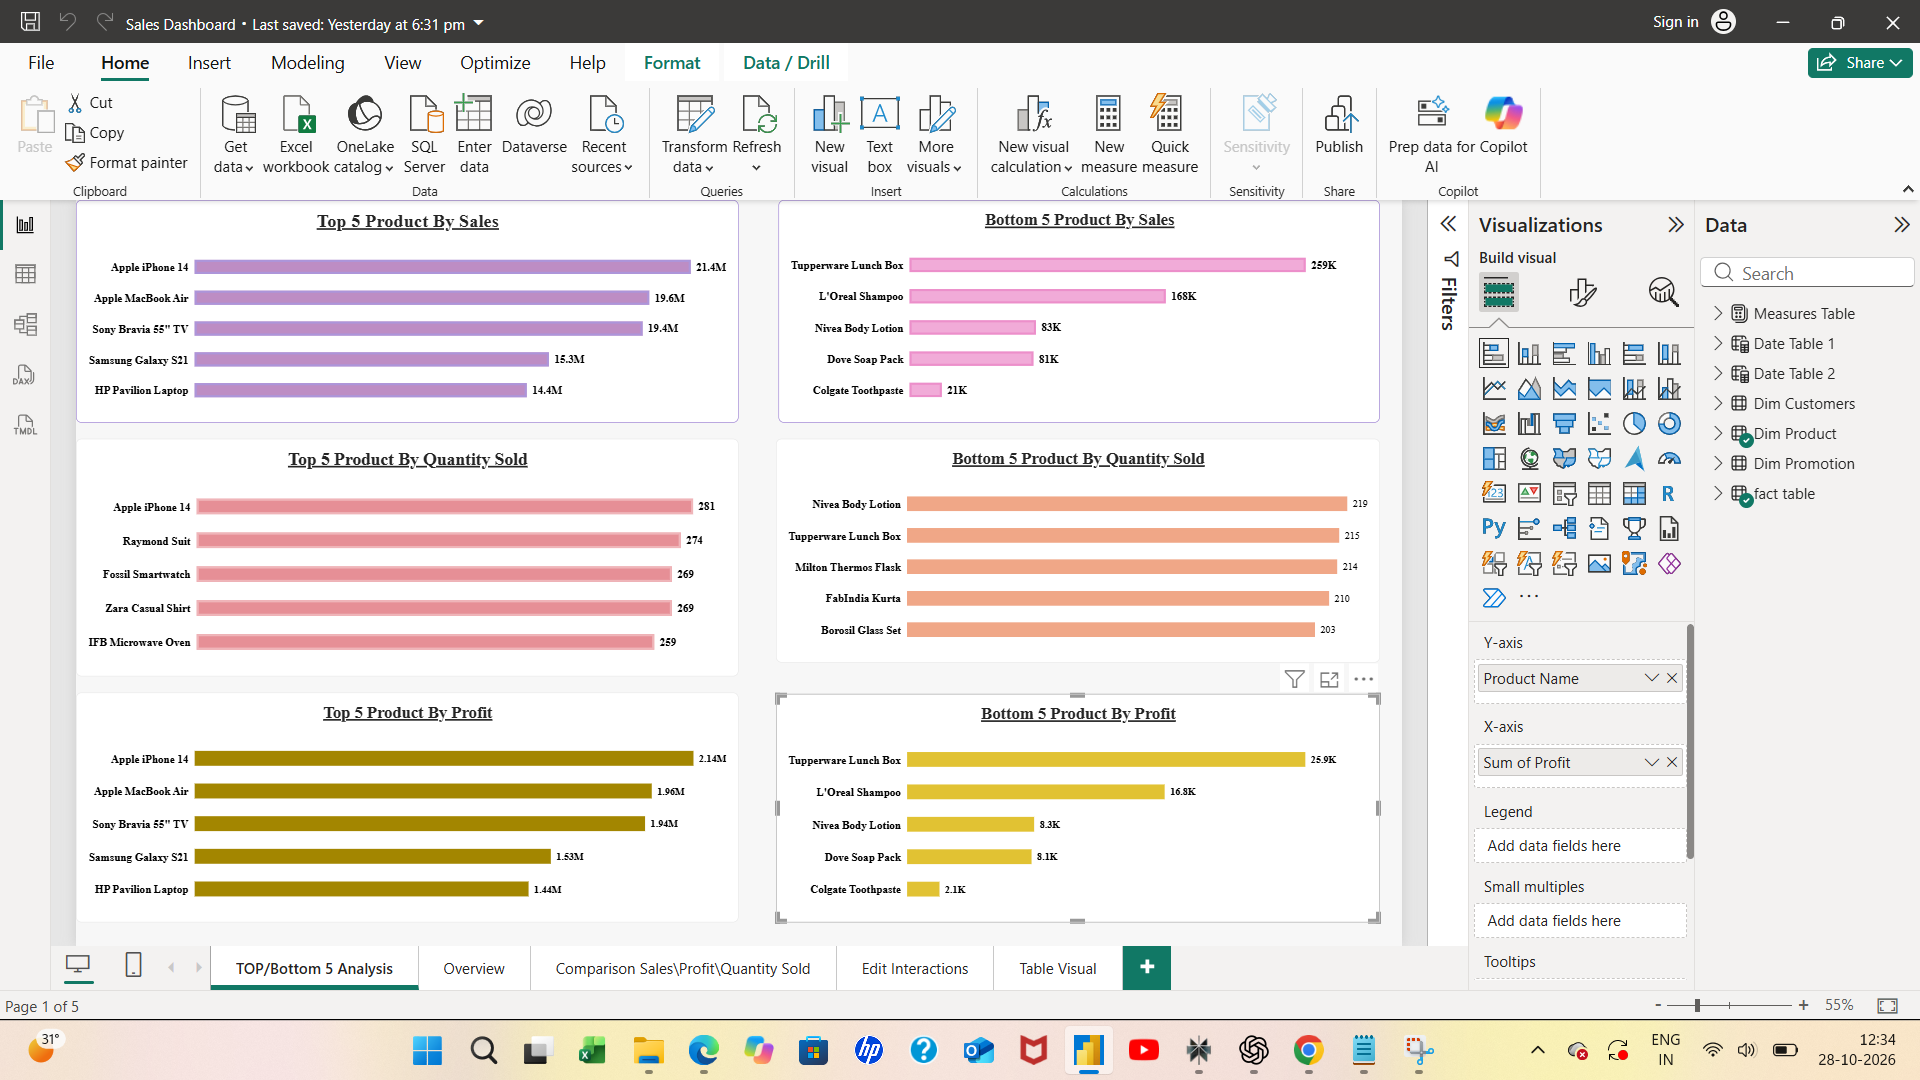

What the dashboard file says about the page in this screenshot:
{"tool":"powerbi","page":{"name":" TOP/Bottom 5 Analysis","canvas":[1920,1080],"ordinal":0},"visuals":[{"type":"barChart","title":"Top 5 Product By Quantity Sold","fields":{"Category":["Dim Product.Product Name"],"Y":["Sum(fact table.Units Sold)"]},"box":[0,345.6,959.1,343.8],"z":1},{"type":"barChart","title":"Bottom 5 Product By Sales","fields":{"Category":["Dim Product.Product Name"],"Y":["Sum(fact table.Net Sales  )"]},"box":[1017,0,870.4,322.1],"z":2},{"type":"barChart","title":"Top 5 Product By Sales","fields":{"Category":["Dim Product.Product Name"],"Y":["Sum(fact table.Net Sales  )"]},"box":[0,0,959.1,322.1],"z":3},{"type":"barChart","title":"Bottom 5 Product By Quantity Sold","fields":{"Category":["Dim Product.Product Name"],"Y":["Sum(fact table.Units Sold)"]},"box":[1013.4,345.6,874.1,323.9],"z":4},{"type":"barChart","title":"Top 5 Product By Profit","fields":{"Category":["Dim Product.Product Name"],"Y":["Sum(fact table.Profit)"]},"box":[0,713,959.1,333],"z":5},{"type":"barChart","title":"Bottom 5 Product By Profit","fields":{"Category":["Dim Product.Product Name"],"Y":["Sum(fact table.Profit)"]},"box":[1013.4,714.8,874.1,331.2],"z":6}]}

Visuals, with their boxes on the page's 1920x1080 design canvas (x1, y1, x2, y2). These are canvas units, not pixel positions in the 1920x1080 screenshot, which may show the page scaled, cropped or inside an application window:
"Top 5 Product By Quantity Sold" barChart: (x1=0, y1=346, x2=959, y2=689)
"Bottom 5 Product By Sales" barChart: (x1=1017, y1=0, x2=1887, y2=322)
"Top 5 Product By Sales" barChart: (x1=0, y1=0, x2=959, y2=322)
"Bottom 5 Product By Quantity Sold" barChart: (x1=1013, y1=346, x2=1888, y2=670)
"Top 5 Product By Profit" barChart: (x1=0, y1=713, x2=959, y2=1046)
"Bottom 5 Product By Profit" barChart: (x1=1013, y1=715, x2=1888, y2=1046)
